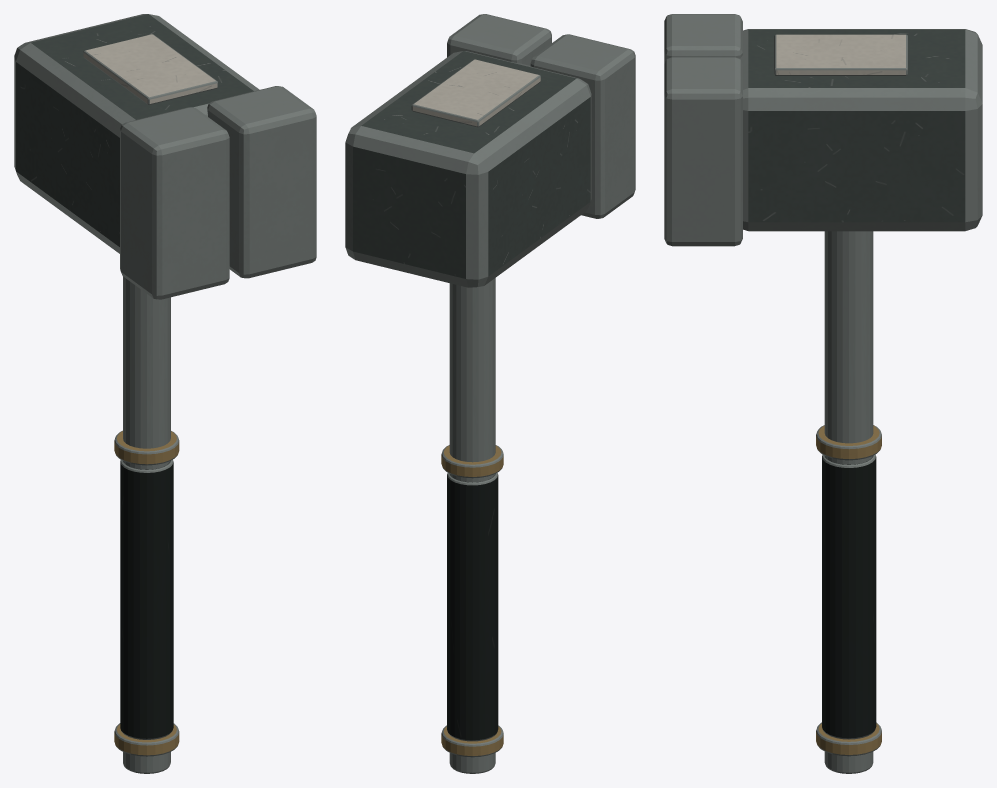
File: hammer-t4.glb
3 views of the same model, side by side, from view 1: azimuth 30°, elevation 25°; view 2: azimuth 150°, elevation 25°; view 3: azimuth 270°, elevation 25° (orthographic). The views are drawn at different scales.
Visible parts, largest first — view 1: Split siege housing, Twin striking anvil, Twin striking anvil.001, Continuous two-hand wrap, Steel shaft, Recessed head inlay, Grip ferrule.001, Grip ferrule; view 2: Split siege housing, Continuous two-hand wrap, Twin striking anvil, Steel shaft, Recessed head inlay, Twin striking anvil.001, Grip ferrule.001, Grip ferrule; view 3: Split siege housing, Continuous two-hand wrap, Twin striking anvil.001, Steel shaft, Recessed head inlay, Twin striking anvil, Grip ferrule.001, Grip ferrule.
Part boxes in pixels (box(x1,y1,x2,y2)): Split siege housing: box(14, 14, 259, 253); Twin striking anvil: box(120, 107, 229, 299); Twin striking anvil.001: box(207, 86, 316, 278); Continuous two-hand wrap: box(120, 459, 173, 739); Steel shaft: box(123, 276, 170, 773); Recessed head inlay: box(83, 34, 217, 104); Grip ferrule.001: box(114, 430, 179, 465); Grip ferrule: box(114, 723, 179, 756); Split siege housing: box(345, 51, 591, 287); Continuous two-hand wrap: box(447, 472, 498, 741); Twin striking anvil: box(530, 34, 635, 218); Steel shaft: box(449, 278, 495, 773); Recessed head inlay: box(411, 59, 540, 127); Twin striking anvil.001: box(447, 14, 551, 65); Grip ferrule.001: box(441, 445, 503, 478); Grip ferrule: box(441, 725, 503, 757); Split siege housing: box(740, 29, 982, 231); Continuous two-hand wrap: box(822, 454, 876, 739); Twin striking anvil.001: box(664, 57, 742, 246); Steel shaft: box(824, 231, 873, 773); Recessed head inlay: box(774, 34, 907, 75); Twin striking anvil: box(664, 14, 742, 63); Grip ferrule.001: box(816, 425, 881, 460); Grip ferrule: box(816, 722, 881, 756).
Bounding box in the file's own units: 0.49 × 2 × 0.81.
Materials: 5 (5 with a texture image).
